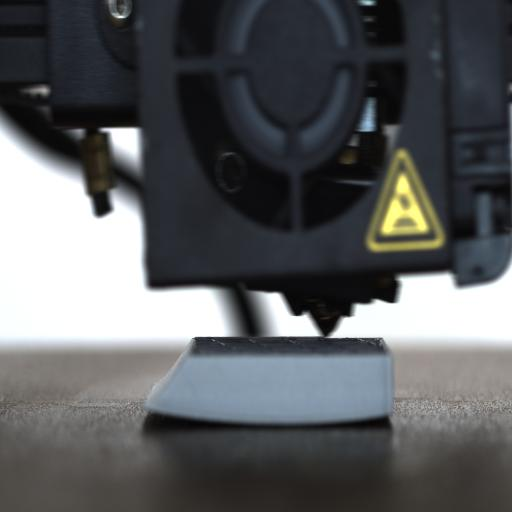warp: (144, 388, 200, 420)
